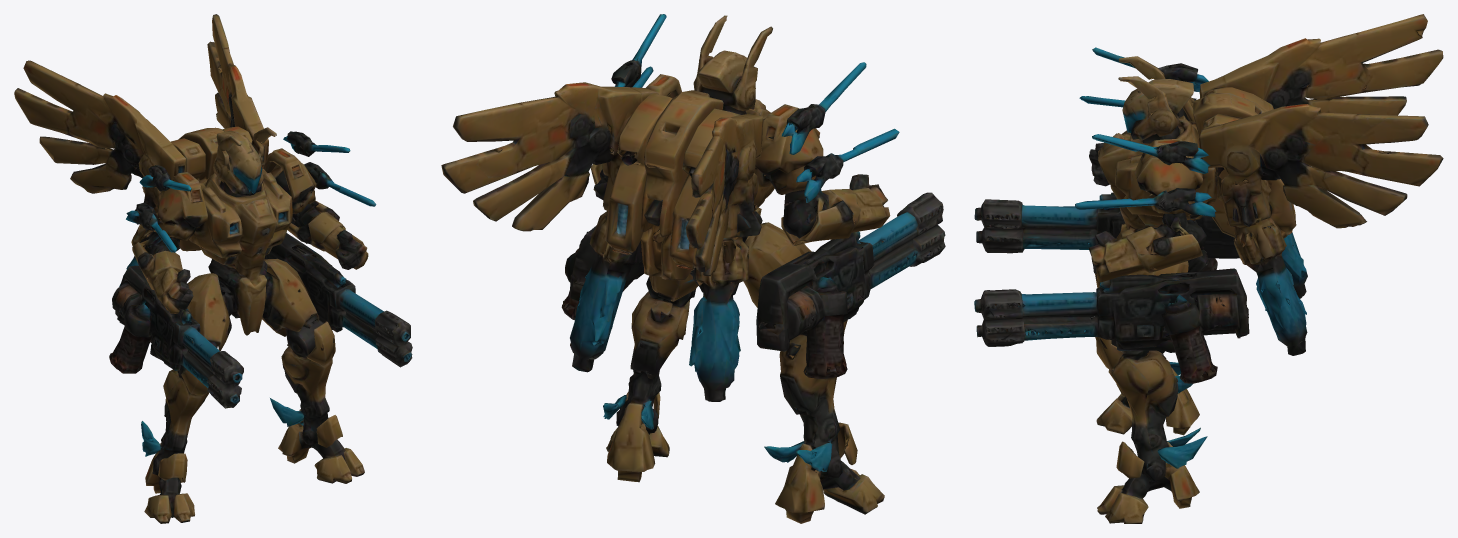
Rendered from 07_Battle Suits.glb.
3 renders of one model, left to right at view 1: azimuth 30°, elevation 25°; view 2: azimuth 150°, elevation 25°; view 3: azimuth 270°, elevation 25°, orthographic. The views are drawn at different scales.
Size of the model in its own units: 0.605 by 0.942 by 0.9933.
1 material, 1 textured.
